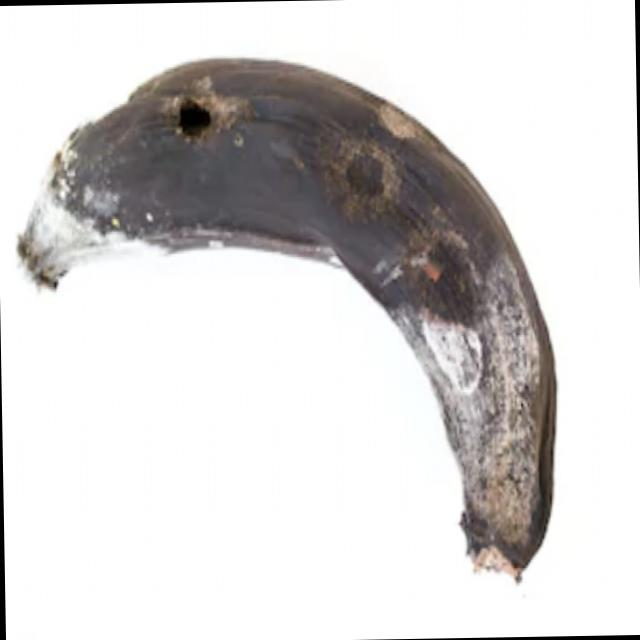rotten-banana: (14, 36, 563, 558)
